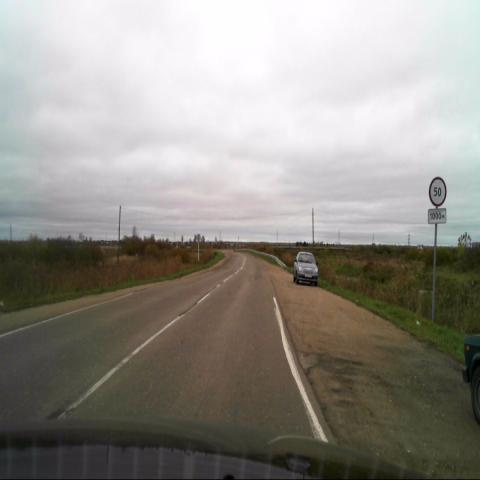8_1_1: (428, 208, 446, 224)
